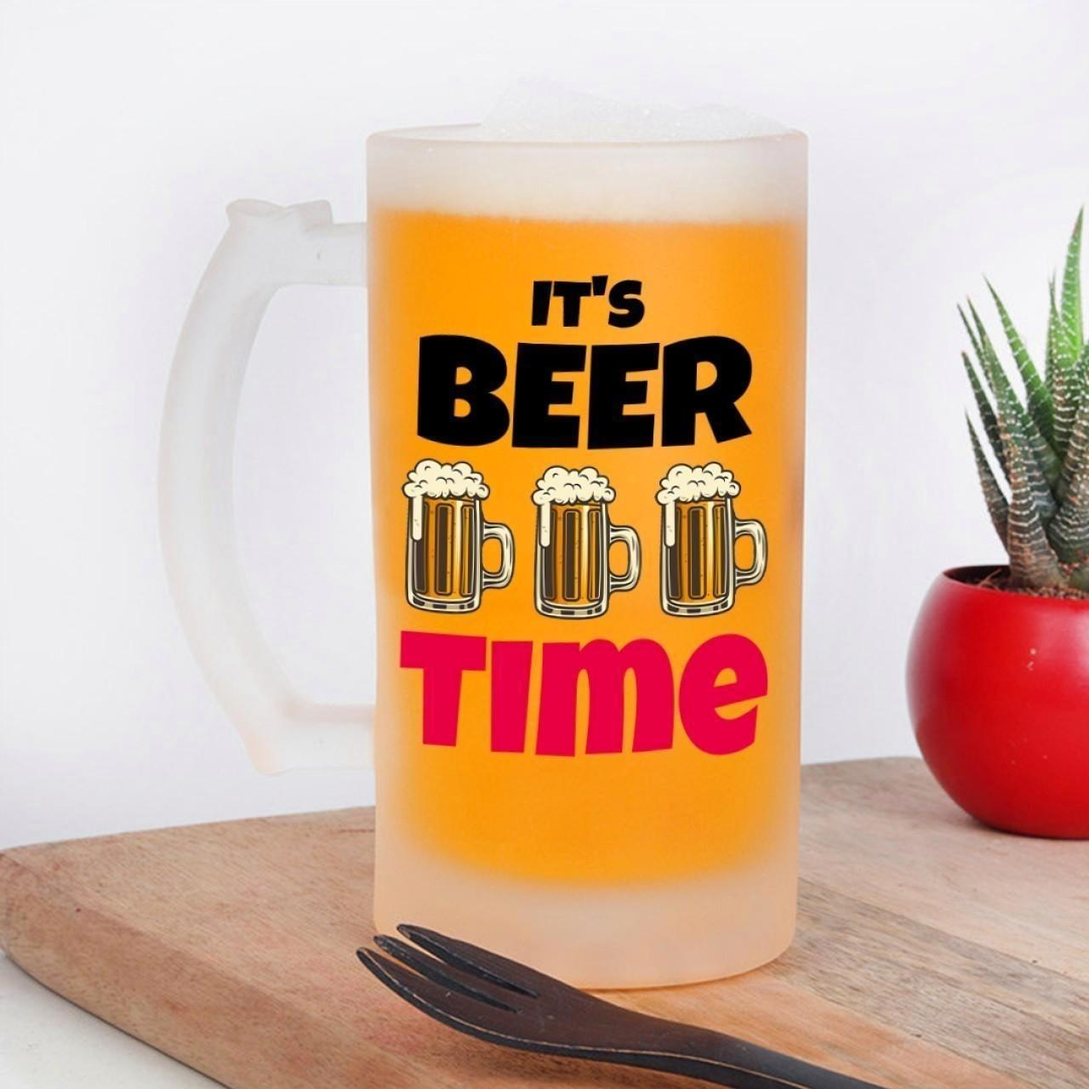glass-mug: (154, 101, 828, 1001)
